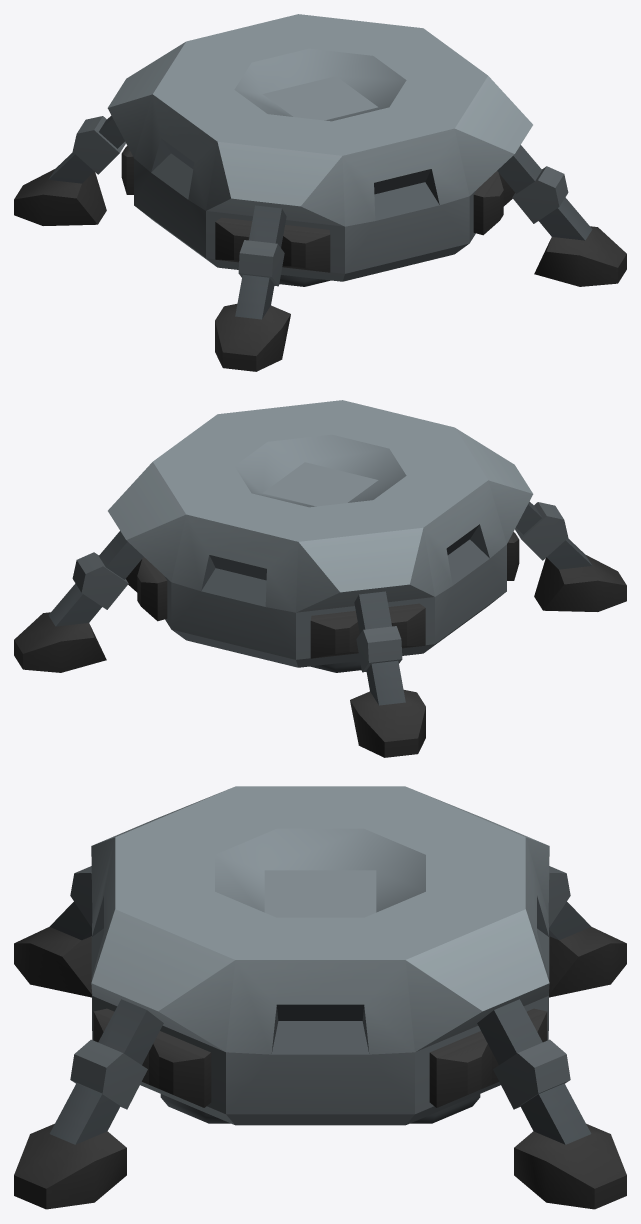
Rendered from lander_base.glb.
The picture shows the model from 3 angles, top to bottom: view 1: azimuth 30°, elevation 25°; view 2: azimuth 150°, elevation 25°; view 3: azimuth 270°, elevation 25°; orthographic projection. The views are drawn at different scales.
Visible parts, largest first — view 1: lander_base; view 2: lander_base; view 3: lander_base.
Part boxes in pixels (<box>): lander_base: <box>14,14,626,371</box>; lander_base: <box>14,400,626,757</box>; lander_base: <box>14,786,626,1209</box>.
Bounding box in the file's own units: 4.03 × 1.5 × 4.03.
Materials: 1 (1 with a texture image).
